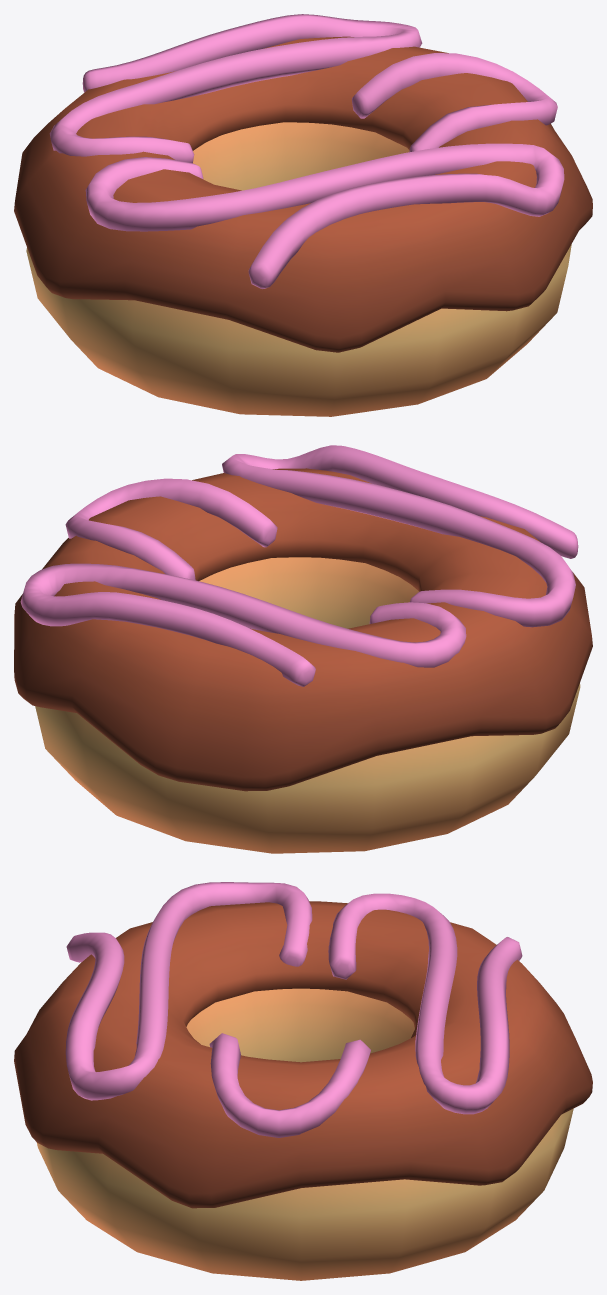
File: Donut_V2_00.fbx
3 views of the same model, one above another, from view 1: azimuth 30°, elevation 25°; view 2: azimuth 150°, elevation 25°; view 3: azimuth 270°, elevation 25° (orthographic).
Visible parts, largest first — view 1: Donut_V2_00; view 2: Donut_V2_00; view 3: Donut_V2_00.
Boxes of the visible parts, <box> form: Donut_V2_00: <box>14,14,592,416</box>; Donut_V2_00: <box>14,445,592,853</box>; Donut_V2_00: <box>14,882,592,1280</box>.
Size of the model in its own units: 42.98 by 18.23 by 43.01.
